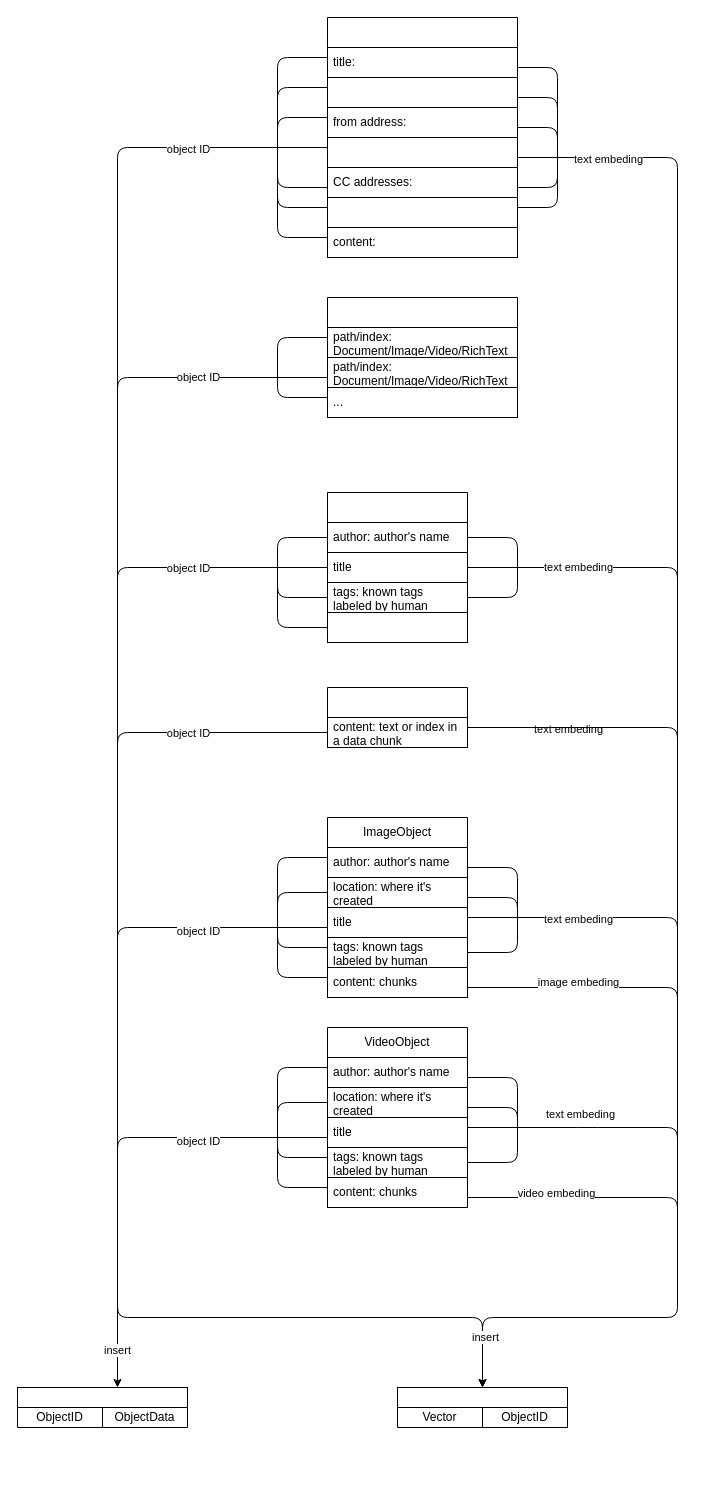
Image size: 703x1485. Some labels were removed from this diagram. The shapes that lost their labels are listed below. From the top down, each one's box as (x1, y1, x2, y2) in pixels, then its label:
(326, 16, 518, 78): EmailObject
(326, 76, 518, 108): author:
(326, 136, 518, 168): to addresses:
(326, 196, 518, 228): forward/reply to:
(326, 296, 518, 358): RichTextObject
(326, 492, 468, 582): DocumentObject
(326, 612, 468, 642): content: text chunks
(326, 686, 468, 748): TextChunk
(16, 1386, 188, 1408): Object Storage
(396, 1386, 568, 1408): Vector Storage
